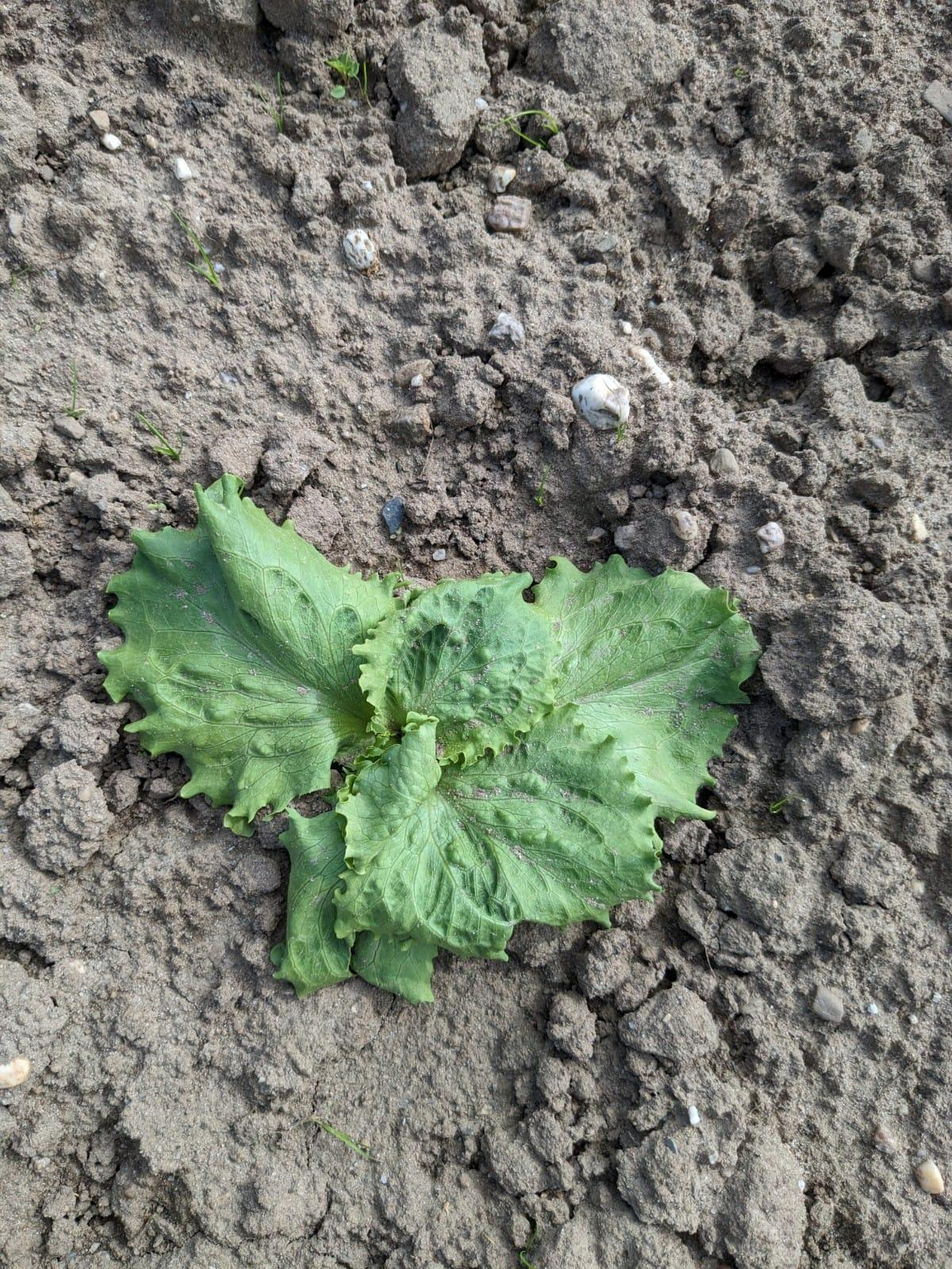Healthy: (98, 475, 759, 1002)
